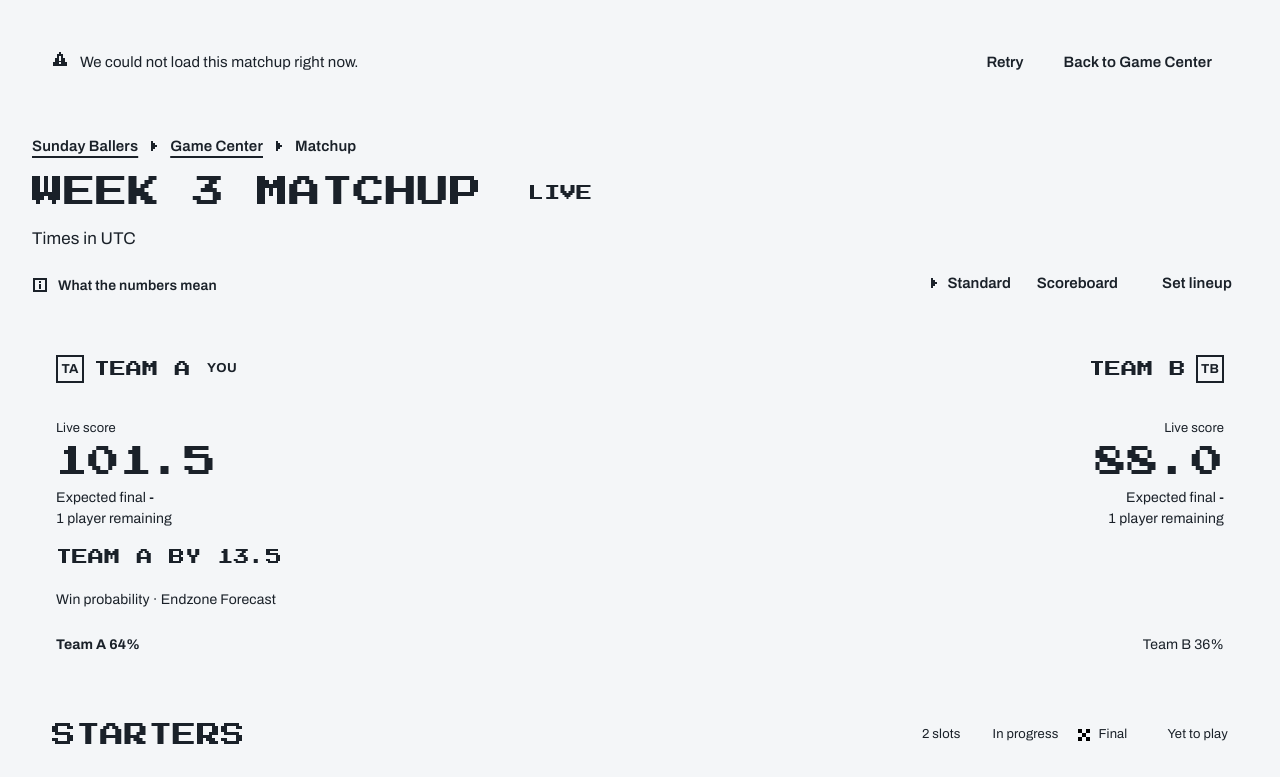
Scenario: Retry on a failed resync keeps the box score on screen and focuses the h1 once the read succeeds
Check: the heading "Week 3 Matchup" is shown, box [32,172,482,214]
Click the button "Retry": (1005, 62) [970,40,1040,84]
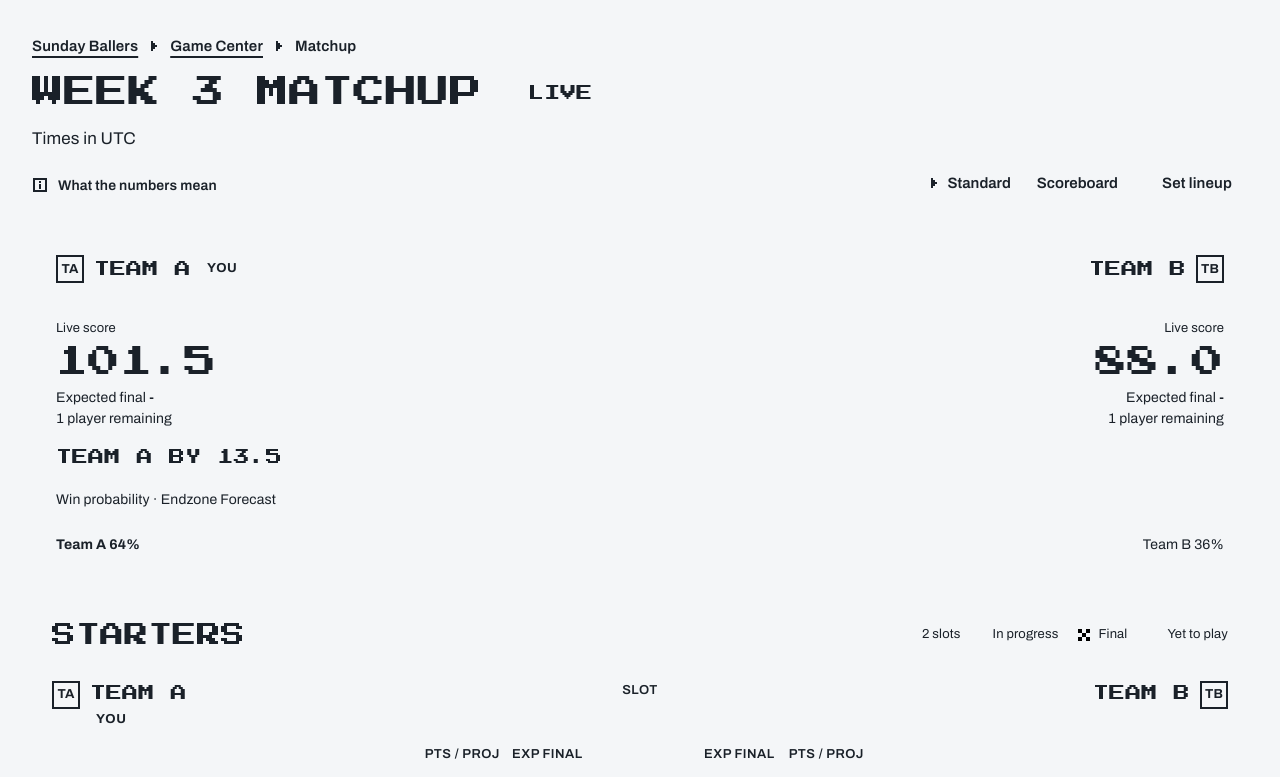
Check: the message "We could not load this matchup right now. Retry Back to Game Center" is gone
